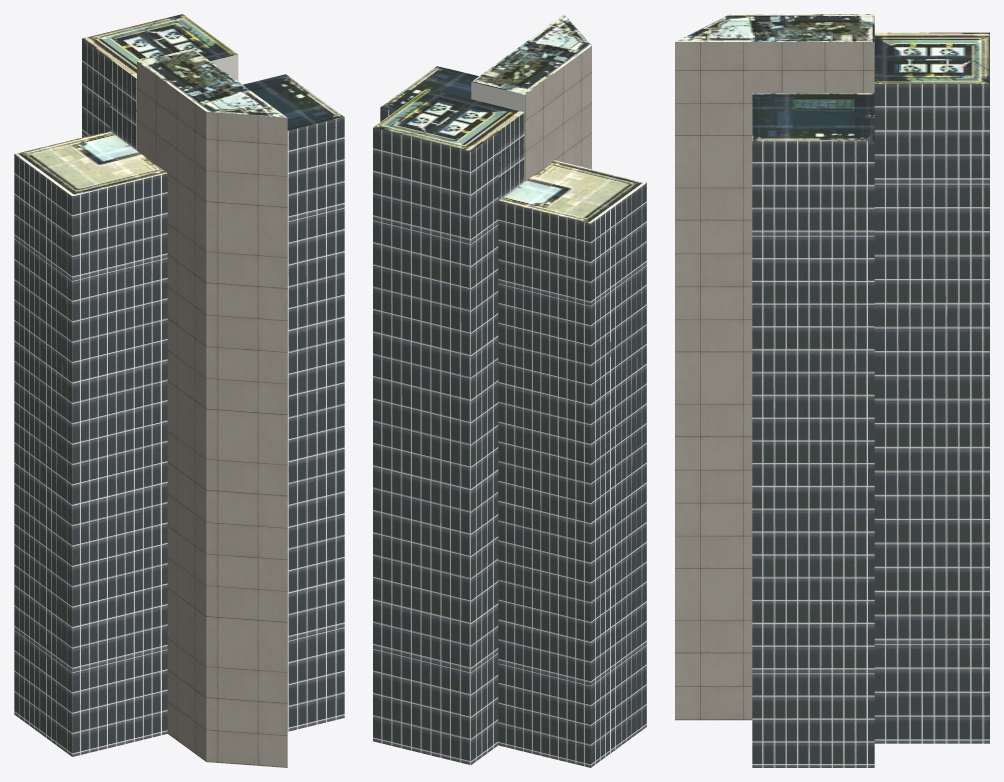
Rendered from Highrise1.gltf.
The picture shows the model from 3 angles, left to right: view 1: azimuth 30°, elevation 25°; view 2: azimuth 150°, elevation 25°; view 3: azimuth 270°, elevation 25°; orthographic projection. The views are drawn at different scales.
Parts seen in each view (by area): view 1: Highrise1; view 2: Highrise1; view 3: Highrise1.
Part boxes in pixels (left/top/right/bottom): Highrise1: left=14, top=14, right=344, bottom=767; Highrise1: left=373, top=14, right=646, bottom=767; Highrise1: left=675, top=14, right=989, bottom=767.
Size of the model in its own units: 56.98 by 145 by 60.97.
1 material, 1 textured.
